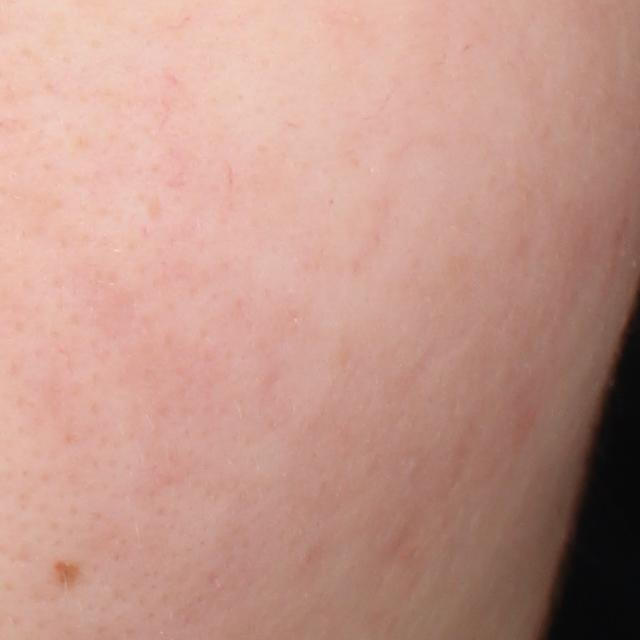nevus: (51, 559, 78, 592)
